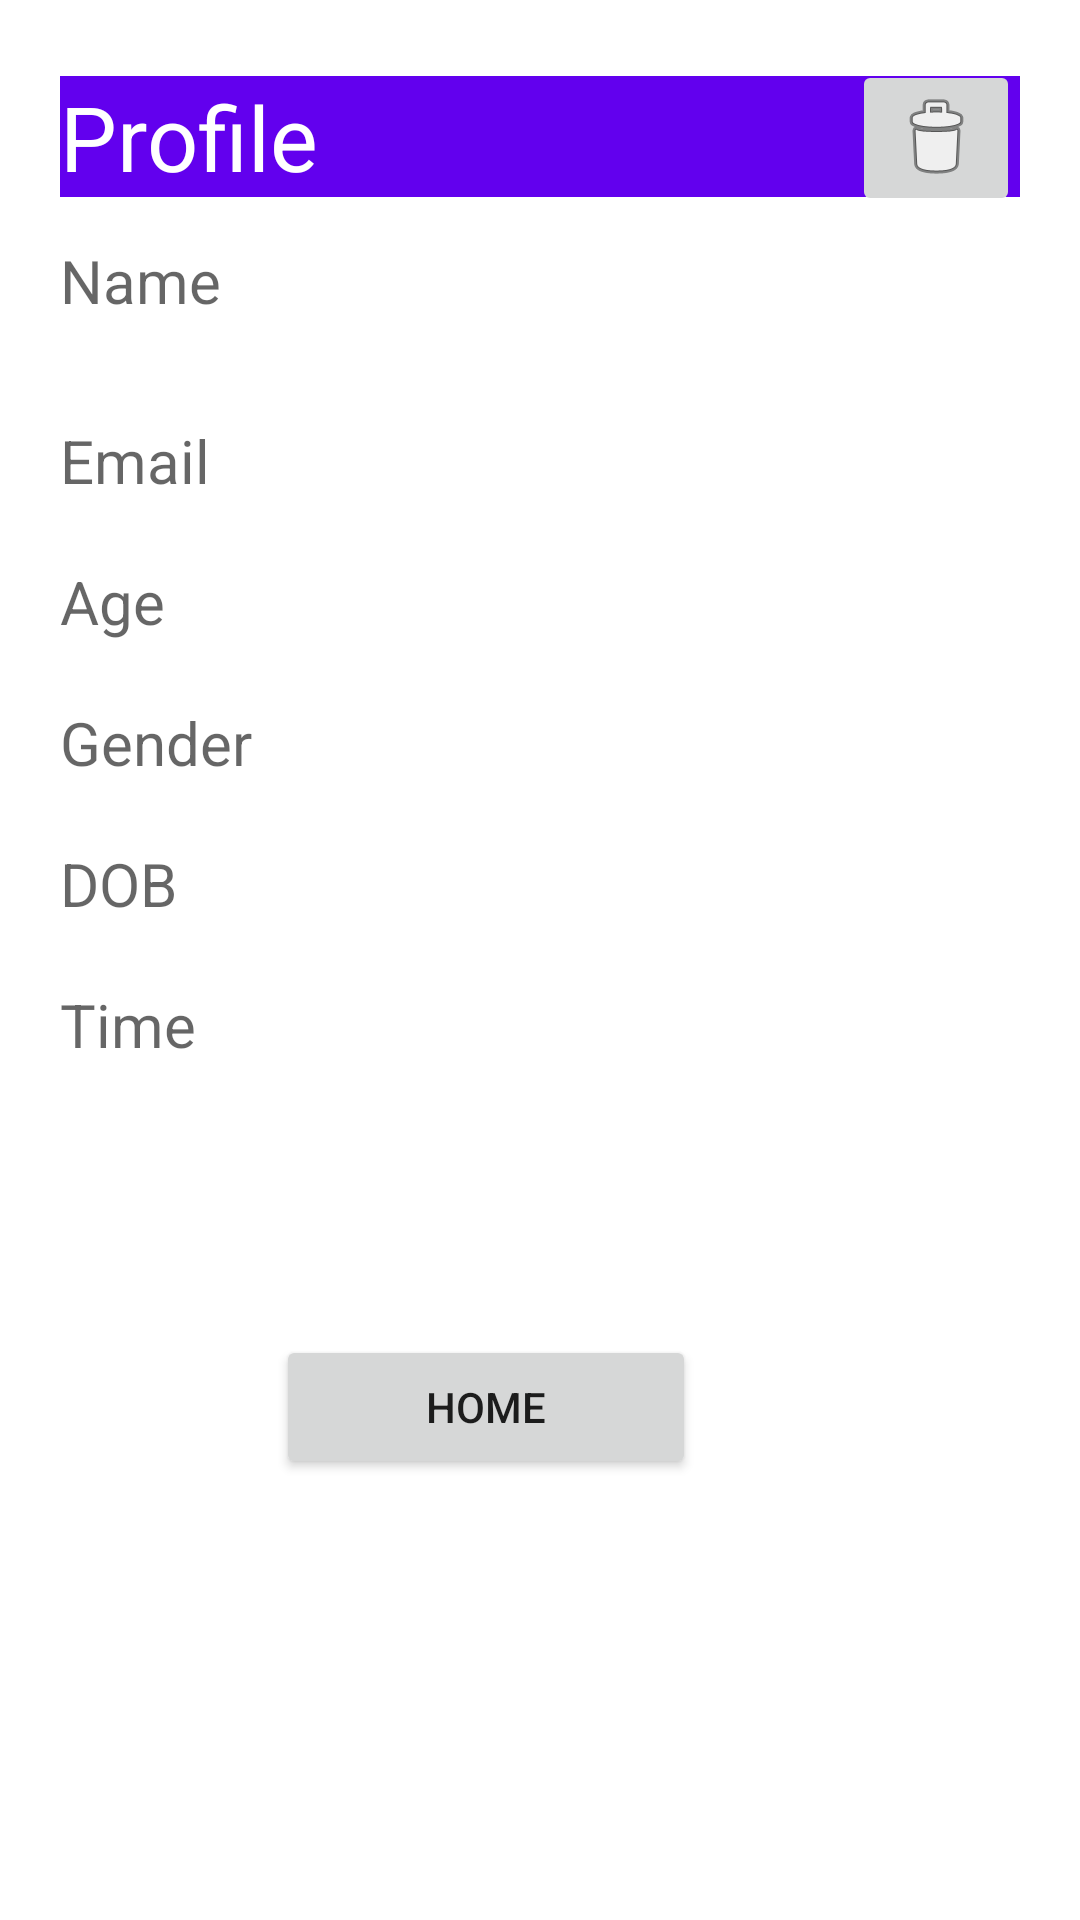

Icon click points for this 1080px×1920px phone screenshot, format (x=x, y=y):
delete: (x=936, y=137)
